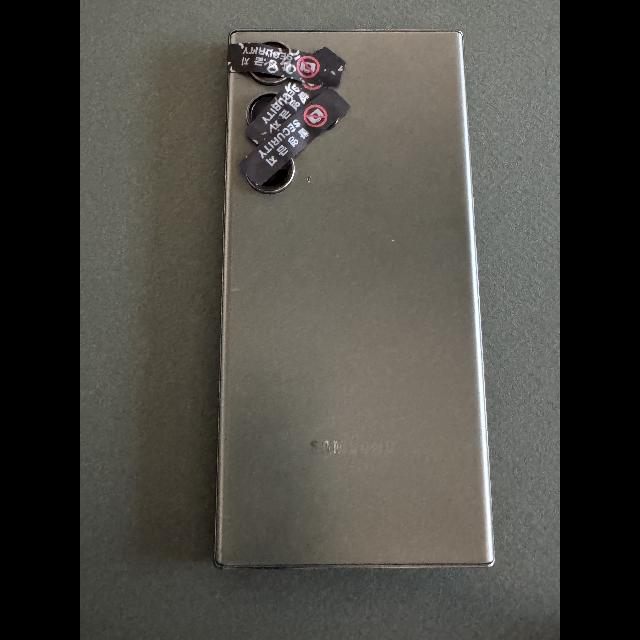lens: (246, 158, 295, 194), (246, 93, 277, 126), (250, 72, 287, 85)
phone: (213, 29, 496, 569)
sticker: (240, 88, 351, 186), (228, 43, 344, 88), (247, 80, 325, 146)
